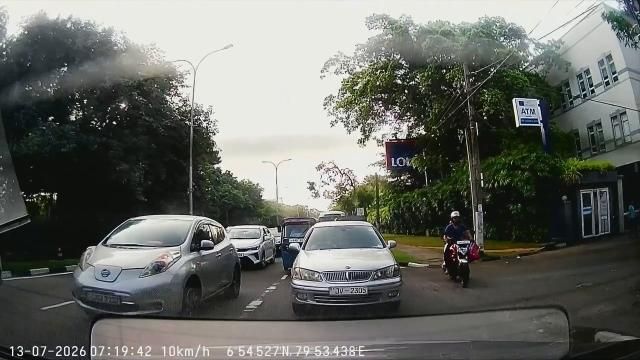illegal overtaking: (441, 203, 485, 294)
